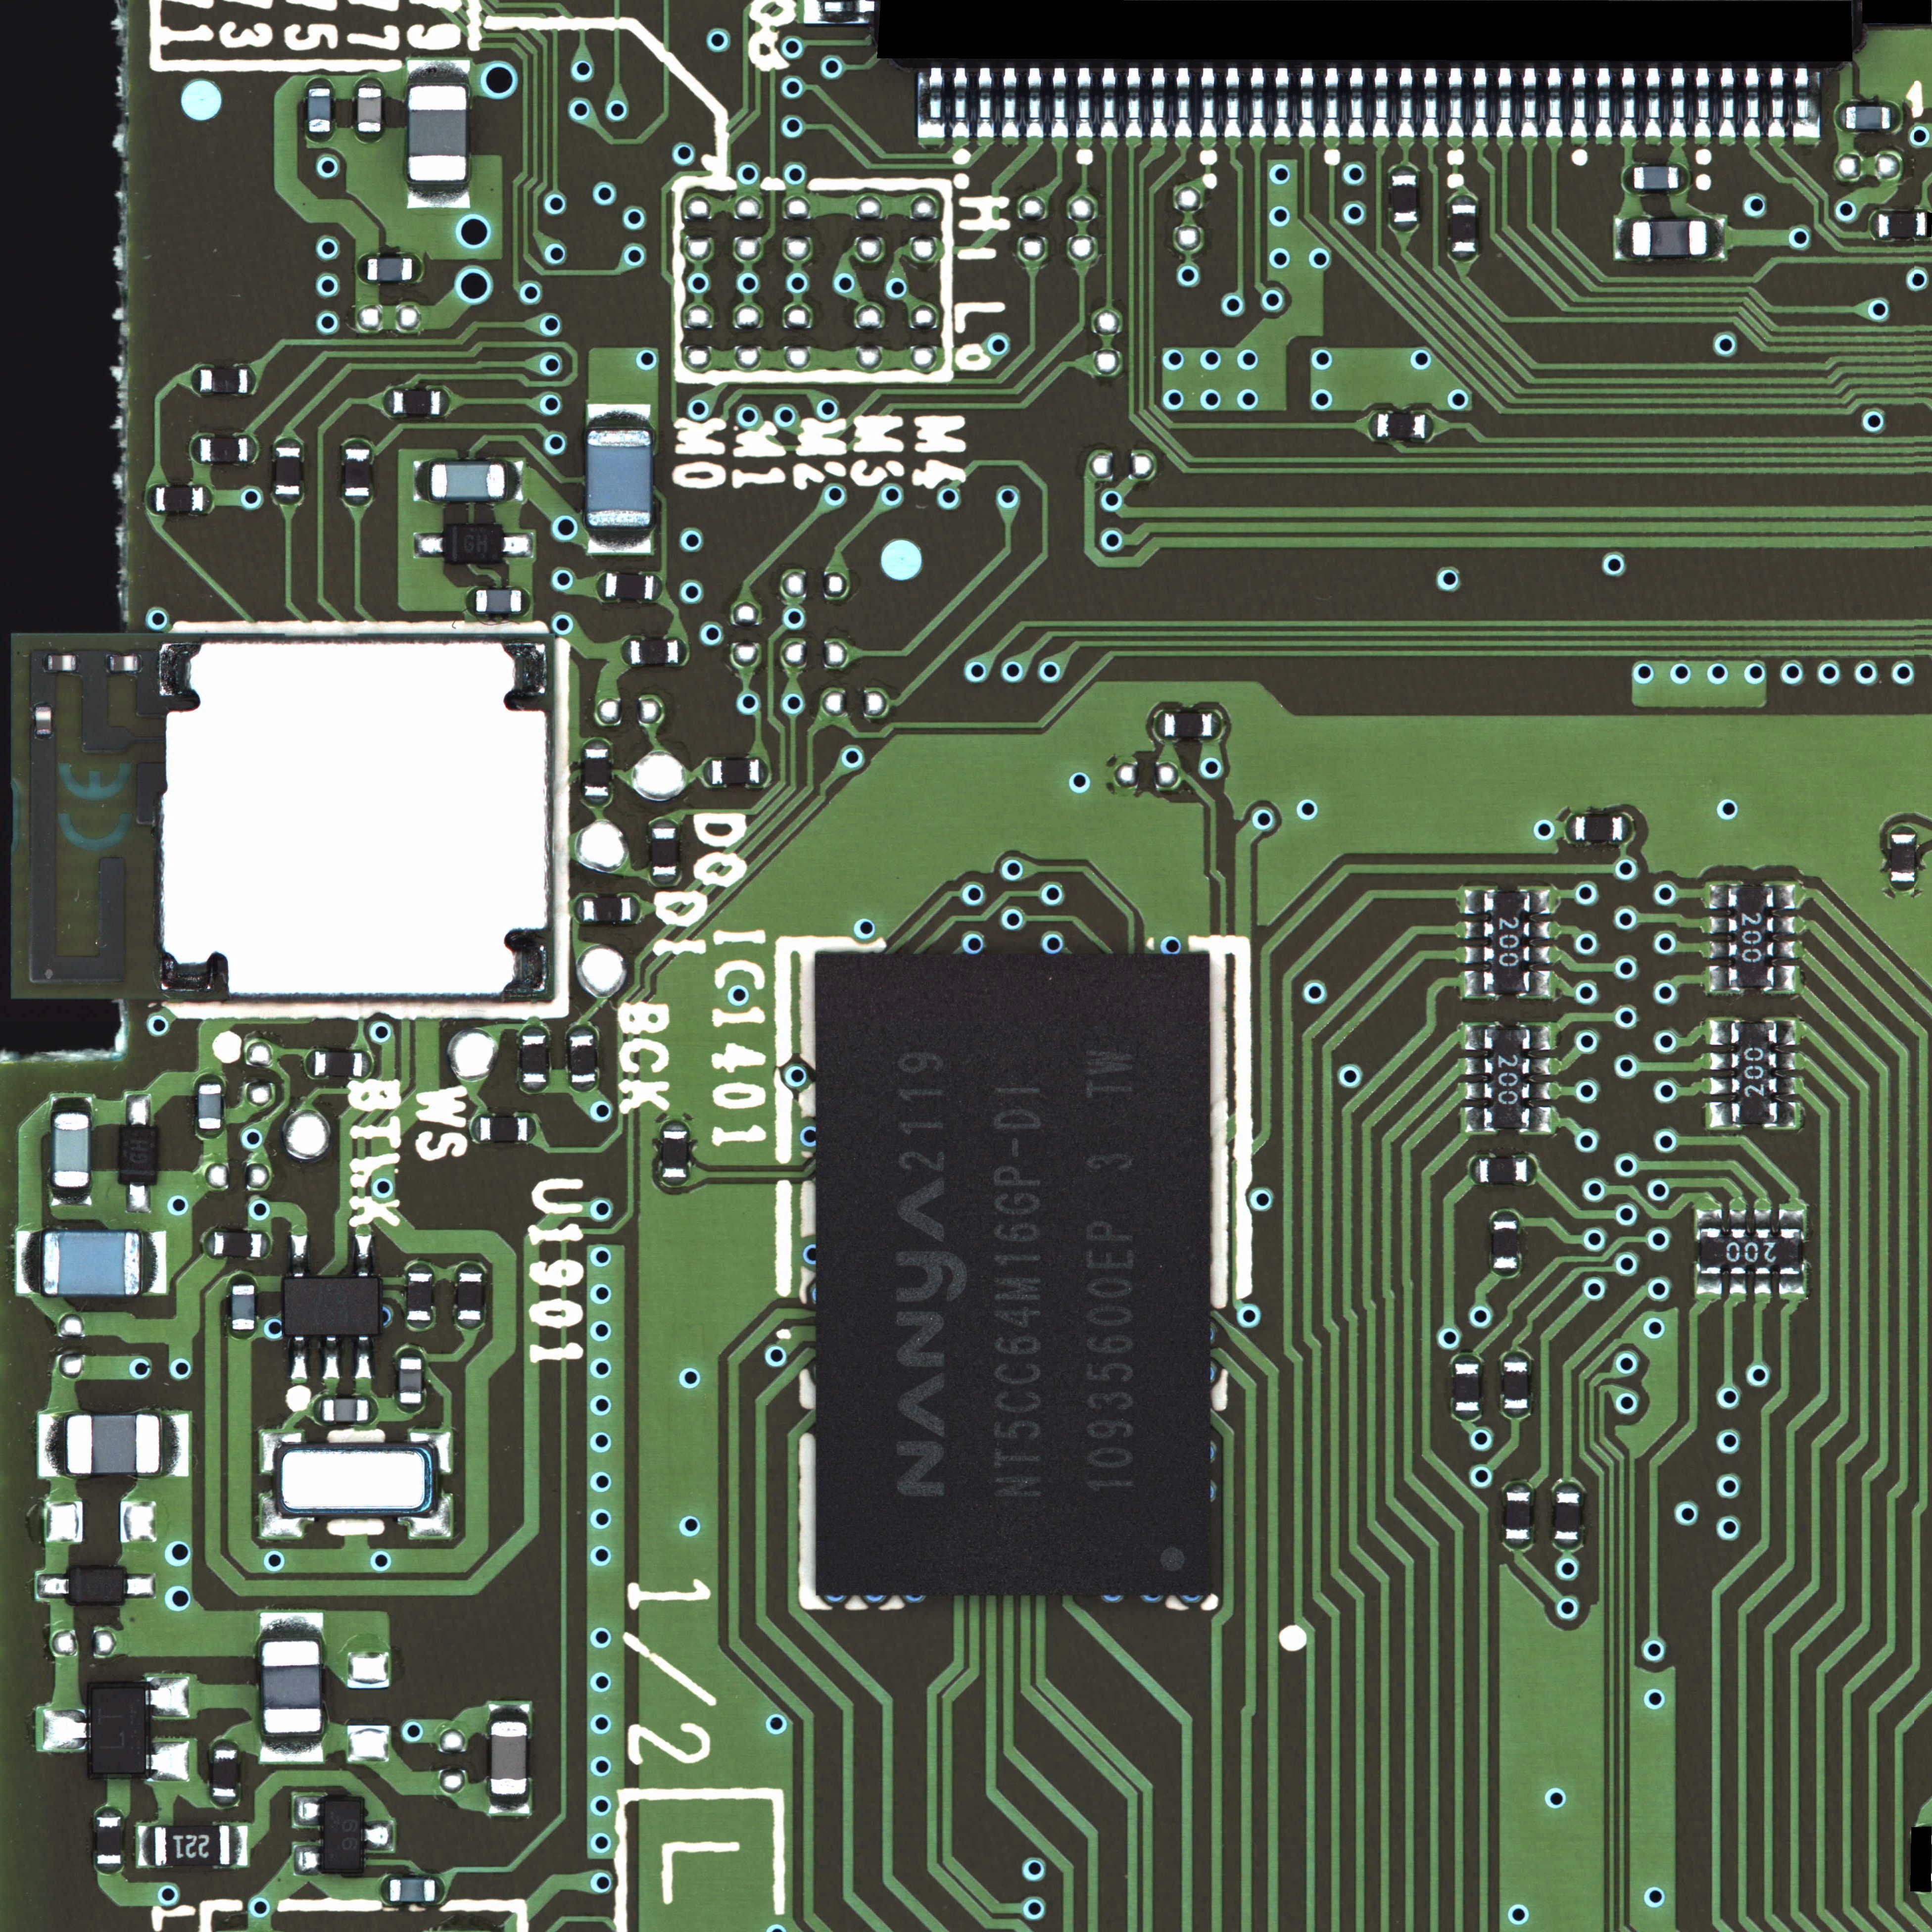Package: (814, 952, 1212, 1591), (276, 1444, 441, 1516), (42, 1233, 140, 1295), (589, 430, 649, 525), (260, 1642, 322, 1734), (67, 1414, 159, 1474), (283, 1277, 380, 1334), (409, 87, 467, 180), (90, 1683, 145, 1775), (1486, 890, 1532, 996), (1484, 1026, 1530, 1131), (1729, 886, 1775, 991), (1730, 1021, 1776, 1125), (1698, 1228, 1801, 1274), (322, 1798, 363, 1872), (156, 1826, 228, 1865), (1633, 219, 1707, 257), (432, 464, 504, 499), (53, 1115, 88, 1187), (492, 1721, 527, 1794), (446, 525, 504, 563), (120, 1125, 157, 1184), (69, 1569, 124, 1603), (605, 571, 653, 600), (315, 1051, 363, 1077), (570, 1035, 596, 1083), (1392, 173, 1419, 221), (1454, 1364, 1481, 1412), (1376, 414, 1426, 439), (96, 1817, 122, 1863), (156, 487, 203, 511), (345, 449, 370, 497), (632, 639, 679, 663), (711, 759, 759, 784), (522, 1037, 547, 1085), (662, 1131, 686, 1178), (409, 1272, 433, 1320), (458, 1274, 483, 1322), (212, 1750, 237, 1798), (1453, 205, 1477, 253), (1164, 711, 1212, 736), (1891, 833, 1916, 881), (1493, 1221, 1518, 1269), (200, 437, 246, 462), (584, 750, 609, 796), (651, 828, 676, 874), (481, 1116, 527, 1141), (1479, 1157, 1525, 1182), (1504, 1362, 1529, 1408), (200, 370, 248, 393), (1879, 214, 1927, 237), (1557, 1491, 1580, 1539), (395, 393, 441, 416), (476, 589, 522, 612), (278, 448, 301, 494), (584, 897, 630, 920), (389, 1879, 435, 1902), (216, 1233, 262, 1256), (1576, 817, 1622, 840), (1507, 1491, 1530, 1537), (310, 87, 331, 133), (357, 88, 380, 131), (234, 1284, 255, 1330), (400, 1357, 421, 1403), (322, 1399, 368, 1421), (1847, 106, 1890, 129), (368, 258, 412, 280), (200, 1085, 221, 1129), (1635, 166, 1679, 188)
Solder: (587, 525, 651, 556), (159, 1414, 189, 1477), (918, 67, 945, 138), (39, 1414, 67, 1477), (260, 1734, 324, 1762), (145, 1741, 189, 1782), (44, 1709, 88, 1750), (145, 1677, 189, 1716), (407, 180, 467, 209), (258, 1614, 322, 1640), (16, 1231, 42, 1295), (410, 1497, 451, 1537), (262, 1497, 303, 1537), (803, 0, 874, 23), (586, 403, 651, 428), (262, 1431, 301, 1472), (1794, 69, 1817, 136), (142, 1233, 166, 1295), (410, 1431, 449, 1470), (407, 62, 469, 85), (1200, 67, 1217, 138), (1224, 67, 1242, 138), (952, 67, 970, 136), (977, 67, 994, 136), (1051, 69, 1069, 138), (1076, 69, 1093, 138), (1150, 67, 1168, 136), (1175, 67, 1192, 136), (1249, 69, 1267, 138), (1299, 69, 1316, 138), (1323, 69, 1341, 138), (1396, 67, 1414, 136), (1571, 67, 1589, 136), (1670, 69, 1688, 138), (1767, 69, 1785, 138), (1447, 67, 1463, 138), (1472, 67, 1488, 138), (1001, 67, 1017, 136), (1026, 67, 1042, 136), (1100, 69, 1116, 138), (1125, 69, 1141, 138), (1276, 69, 1292, 138), (1695, 69, 1711, 138), (1348, 67, 1364, 136), (1373, 67, 1389, 136), (1422, 67, 1438, 136), (1497, 69, 1513, 138), (1522, 69, 1537, 138), (1546, 67, 1562, 136), (1596, 67, 1612, 136), (1621, 67, 1637, 136), (1645, 69, 1661, 138), (1720, 69, 1736, 138), (1744, 69, 1760, 138), (363, 1821, 393, 1851), (294, 1794, 322, 1826), (354, 1233, 373, 1277), (294, 1845, 322, 1875), (412, 533, 446, 557), (124, 1575, 156, 1599), (37, 1573, 69, 1598), (126, 1093, 150, 1125), (290, 1235, 308, 1277), (322, 1336, 340, 1378), (290, 1336, 308, 1378), (504, 533, 534, 557), (53, 1187, 90, 1207), (1615, 218, 1633, 258), (356, 1334, 372, 1378), (127, 1184, 150, 1214), (412, 462, 430, 501), (53, 1097, 92, 1115), (1706, 219, 1723, 257), (492, 1794, 527, 1812), (506, 460, 522, 499), (140, 1826, 156, 1865), (490, 1706, 529, 1721), (1532, 970, 1553, 998), (1776, 966, 1798, 994), (228, 1826, 242, 1867), (1530, 1106, 1552, 1132), (1707, 966, 1729, 993), (1776, 1102, 1798, 1129), (1465, 888, 1486, 913), (1709, 1019, 1730, 1044), (1697, 1274, 1721, 1295), (1532, 888, 1552, 915), (1465, 970, 1484, 996), (1530, 1024, 1550, 1051), (1711, 1102, 1730, 1129), (1697, 1208, 1723, 1228), (1778, 1208, 1805, 1228), (1465, 1024, 1484, 1049), (1709, 883, 1729, 908), (1776, 885, 1796, 909), (1776, 1021, 1796, 1046), (1780, 1274, 1805, 1293), (1465, 1108, 1483, 1134), (1463, 945, 1486, 964), (1707, 941, 1729, 961), (1529, 1081, 1552, 1099), (1776, 1077, 1799, 1095), (1532, 945, 1553, 962), (1707, 916, 1729, 934), (1465, 1083, 1484, 1100), (1776, 916, 1796, 934), (1711, 1053, 1730, 1070), (1776, 1053, 1796, 1070), (1711, 1079, 1730, 1097), (1729, 1210, 1748, 1228), (1775, 941, 1796, 957), (1152, 711, 1164, 738), (1621, 165, 1635, 188), (1467, 920, 1484, 938), (1465, 1056, 1483, 1074), (1532, 922, 1552, 938), (1530, 1058, 1550, 1074), (1755, 1208, 1771, 1228), (1730, 1274, 1746, 1293), (1755, 1274, 1771, 1293), (246, 437, 258, 462), (439, 391, 451, 416), (276, 494, 301, 506), (570, 1024, 594, 1037), (203, 1231, 216, 1256), (1890, 104, 1902, 129), (678, 637, 688, 665), (1888, 879, 1916, 890), (356, 257, 368, 280), (232, 1329, 255, 1341), (1621, 816, 1633, 839), (1507, 1537, 1530, 1550), (596, 571, 607, 598), (621, 639, 632, 665), (584, 796, 610, 807), (649, 874, 676, 885), (407, 1320, 433, 1330), (211, 1796, 237, 1806), (570, 1081, 596, 1092), (363, 1051, 373, 1077), (1493, 1269, 1520, 1279), (189, 368, 200, 393), (189, 437, 200, 462), (145, 487, 156, 511), (382, 391, 395, 412), (345, 495, 370, 506), (520, 1083, 545, 1093), (662, 1177, 686, 1187), (458, 1263, 483, 1274), (97, 1865, 122, 1875), (471, 1116, 481, 1141), (304, 1051, 315, 1076), (400, 1403, 421, 1415), (368, 1398, 379, 1422), (1836, 104, 1847, 129), (1424, 414, 1435, 439), (1366, 414, 1376, 439), (1212, 711, 1223, 736), (1564, 814, 1575, 839), (1527, 1157, 1537, 1182), (1504, 1408, 1529, 1419), (1890, 824, 1918, 833), (522, 589, 533, 612), (276, 437, 299, 448), (630, 897, 640, 920), (212, 1739, 235, 1750), (198, 1129, 221, 1139), (313, 1398, 324, 1421), (1394, 223, 1417, 234), (1495, 1210, 1518, 1221), (1557, 1539, 1580, 1550), (653, 573, 662, 600), (458, 1322, 485, 1330), (1454, 1412, 1481, 1421), (359, 131, 380, 142), (412, 258, 423, 280), (234, 1274, 255, 1284), (435, 1881, 446, 1902), (203, 487, 212, 511), (465, 587, 474, 612), (759, 759, 768, 784), (584, 740, 609, 748), (651, 817, 676, 826), (522, 1026, 547, 1035), (573, 895, 582, 920), (662, 1122, 686, 1131), (409, 1263, 433, 1272), (96, 1806, 120, 1815), (527, 1116, 536, 1141), (1453, 253, 1477, 262), (1870, 212, 1879, 237), (1468, 1157, 1477, 1182), (1504, 1352, 1529, 1361), (1454, 1353, 1479, 1362), (1507, 1483, 1532, 1491), (248, 370, 257, 393), (702, 759, 711, 782), (198, 1074, 221, 1083), (262, 1233, 271, 1256), (380, 1879, 389, 1902), (1453, 195, 1476, 203), (1679, 166, 1688, 189), (1557, 1483, 1580, 1491), (310, 78, 331, 87), (310, 133, 331, 142), (359, 80, 380, 88), (345, 441, 372, 448), (400, 1348, 421, 1357), (1392, 166, 1417, 173)
